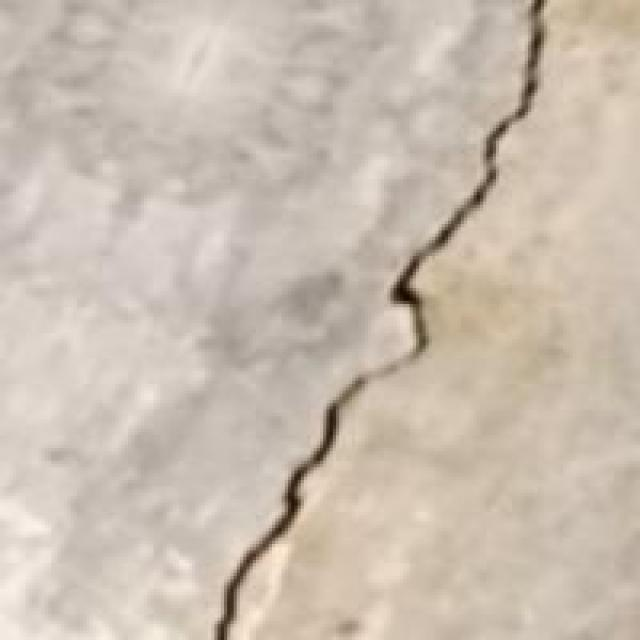crack: (208, 0, 550, 637)
